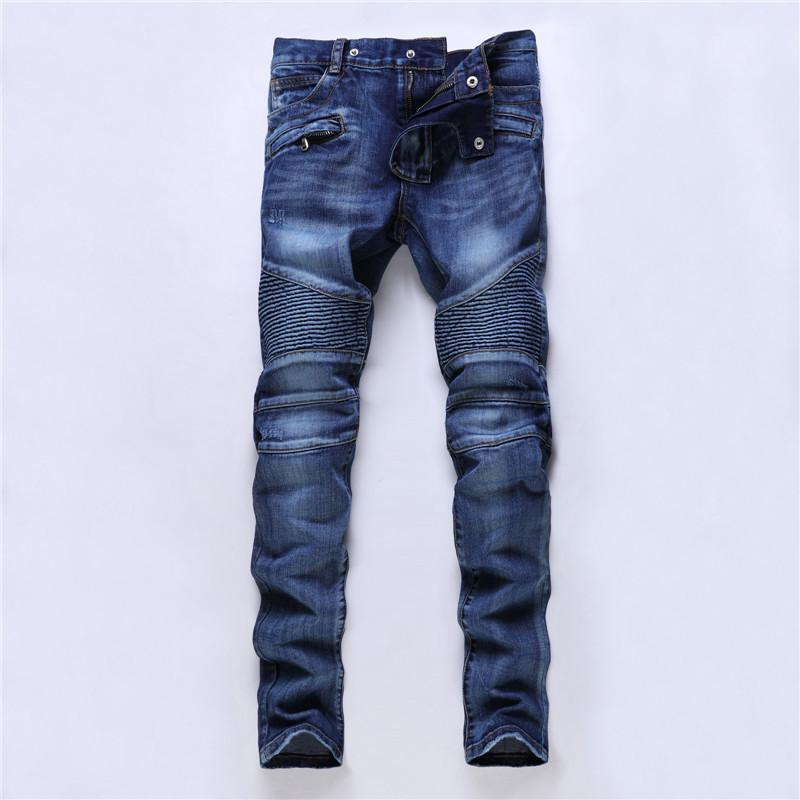jeans: (212, 17, 561, 726)
